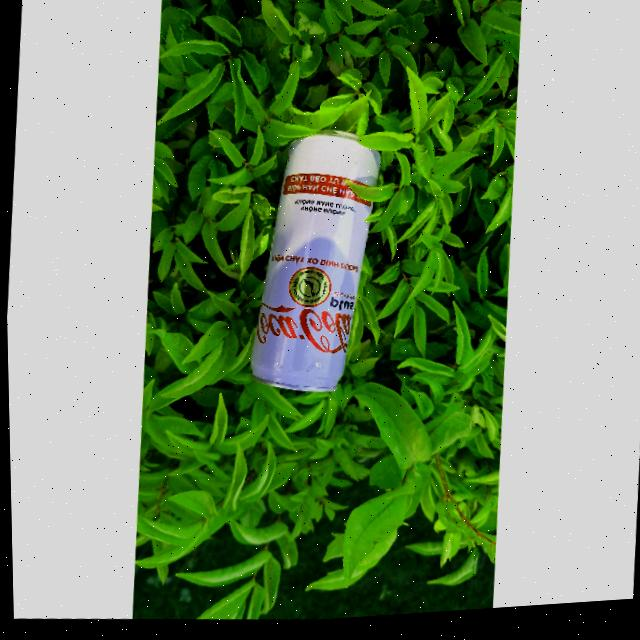Coca Cola Plus: (240, 128, 389, 404)
